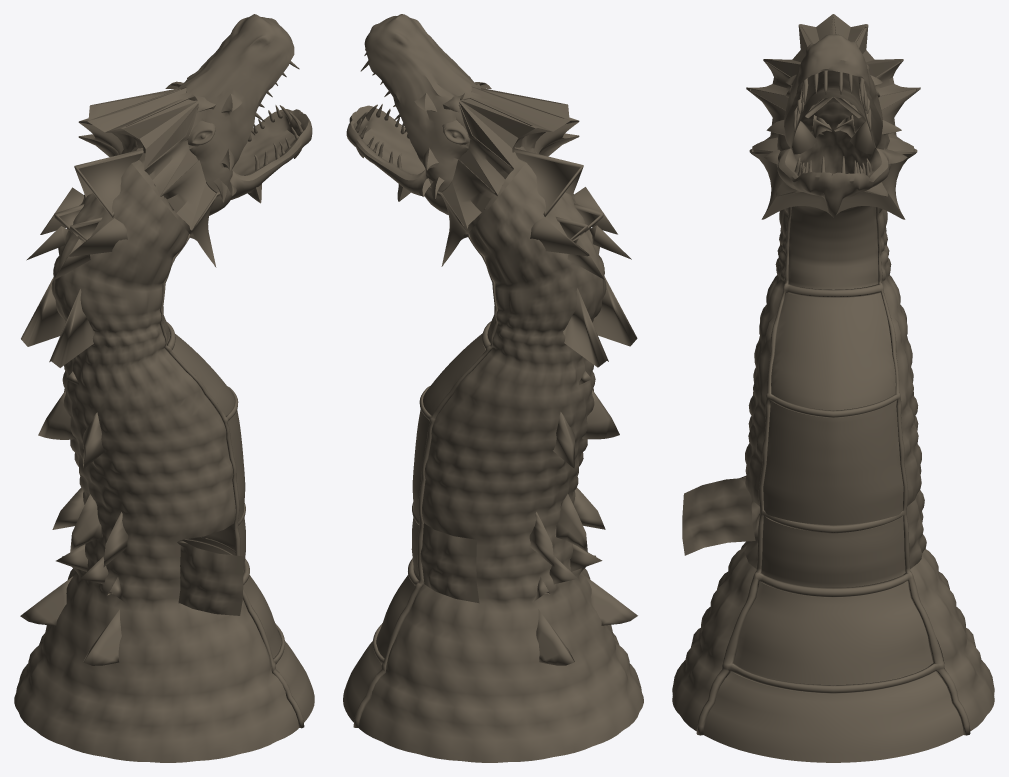
The model's file is uploads_files_3512521_Ejderha_Firin_v8.fbx.
3 renders of one model, left to right at view 1: azimuth 30°, elevation 25°; view 2: azimuth 150°, elevation 25°; view 3: azimuth 270°, elevation 25°, orthographic. The views are drawn at different scales.
Parts seen in each view (by area): view 1: 001_Ejder, 021_kafa, 016_diger, 003_kapilar, 004_kesim_kaynak_kabartmasi; view 2: 001_Ejder, 021_kafa, 016_diger, 003_kapilar, 004_kesim_kaynak_kabartmasi; view 3: 001_Ejder, 021_kafa, 004_kesim_kaynak_kabartmasi, 003_kapilar, 016_diger.
Boxes of the visible parts, x1,y1,x2,y2 form: 001_Ejder: (14,163,314,762); 021_kafa: (78,14,312,267); 016_diger: (20,61,303,665); 003_kapilar: (177,540,243,615); 004_kesim_kaynak_kabartmasi: (159,234,304,728); 001_Ejder: (343,163,643,762); 021_kafa: (346,14,579,266); 016_diger: (355,49,637,665); 003_kapilar: (420,523,479,603); 004_kesim_kaynak_kabartmasi: (353,233,498,727); 001_Ejder: (672,97,994,762); 021_kafa: (746,14,920,219); 004_kesim_kaynak_kabartmasi: (696,207,970,735); 003_kapilar: (682,476,926,568); 016_diger: (786,70,879,176).
Bounding box in the file's own units: 92.37 × 96 × 224.
